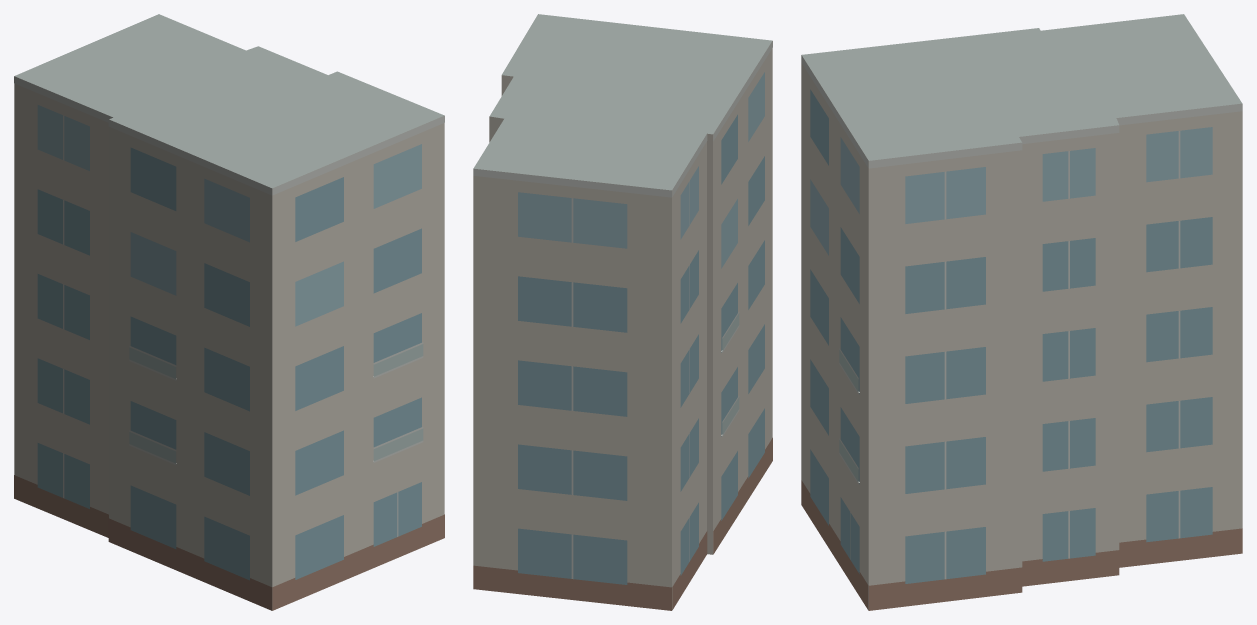
The model's file is survey-upis-32671574.glb.
3 views of the same model, side by side, from view 1: azimuth 30°, elevation 25°; view 2: azimuth 150°, elevation 25°; view 3: azimuth 270°, elevation 25° (orthographic). The views are drawn at different scales.
Parts seen in each view (by area): view 1: survey-upis-32671574.tmp; view 2: survey-upis-32671574.tmp; view 3: survey-upis-32671574.tmp.
Part boxes in pixels (x1,y1,x2,y2): survey-upis-32671574.tmp: [14, 14, 444, 610]; survey-upis-32671574.tmp: [473, 14, 772, 610]; survey-upis-32671574.tmp: [801, 14, 1242, 610].
Size of the model in its own units: 10.02 by 14.3 by 12.71.
